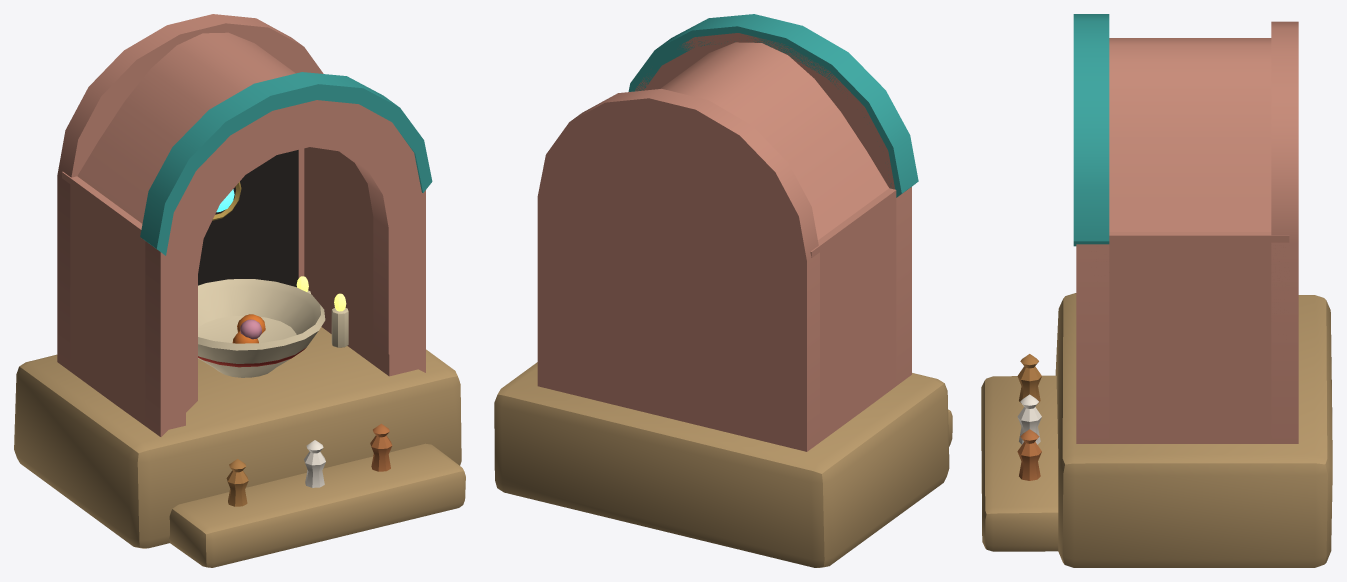
File: deco_offering_shrine.fbx
3 views of the same model, side by side, from view 1: azimuth 30°, elevation 25°; view 2: azimuth 150°, elevation 25°; view 3: azimuth 270°, elevation 25° (orthographic). The views are drawn at different scales.
Parts seen in each view (by area): view 1: OfferingShrine_Alcove, OfferingShrine_Plinth, OfferingShrine_Offerings, OfferingShrine_Trinkets; view 2: OfferingShrine_Alcove, OfferingShrine_Plinth; view 3: OfferingShrine_Alcove, OfferingShrine_Plinth, OfferingShrine_Trinkets.
Boxes of the visible parts, bbox=[...] form: OfferingShrine_Alcove: bbox=[57, 14, 432, 436]; OfferingShrine_Plinth: bbox=[14, 327, 465, 567]; OfferingShrine_Offerings: bbox=[198, 181, 348, 377]; OfferingShrine_Trinkets: bbox=[226, 423, 392, 506]; OfferingShrine_Alcove: bbox=[537, 14, 918, 451]; OfferingShrine_Plinth: bbox=[494, 362, 952, 567]; OfferingShrine_Alcove: bbox=[1073, 14, 1298, 443]; OfferingShrine_Plinth: bbox=[981, 293, 1332, 567]; OfferingShrine_Trinkets: bbox=[1017, 354, 1041, 480].
Size of the model in its own units: 151 by 182 by 128.
